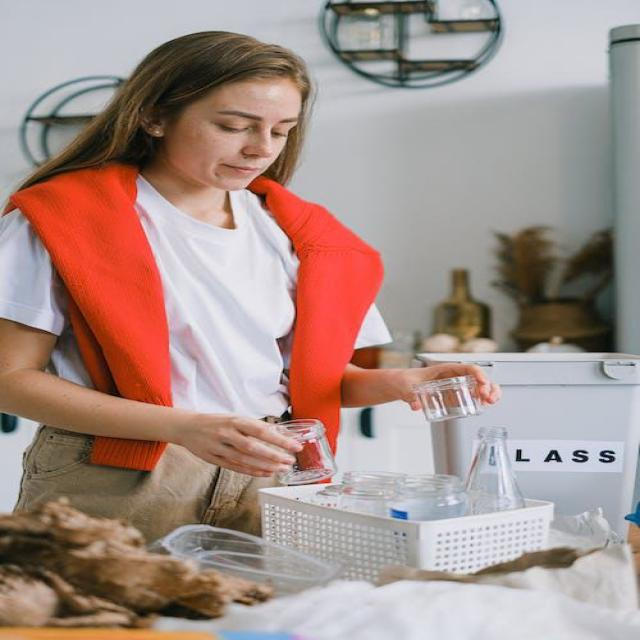glass: (443, 415, 531, 510), (254, 417, 346, 488), (403, 376, 498, 430)
